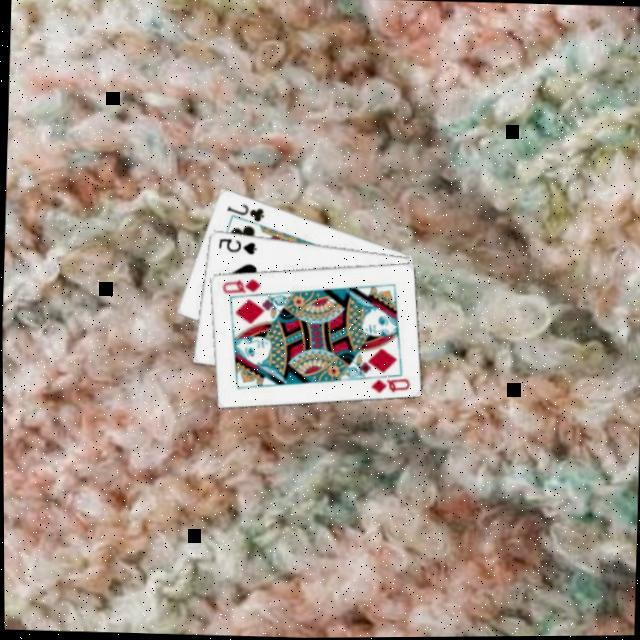5S: (216, 233, 260, 256)
JC: (224, 198, 268, 224)
QD: (219, 273, 264, 296), (368, 373, 412, 396)
